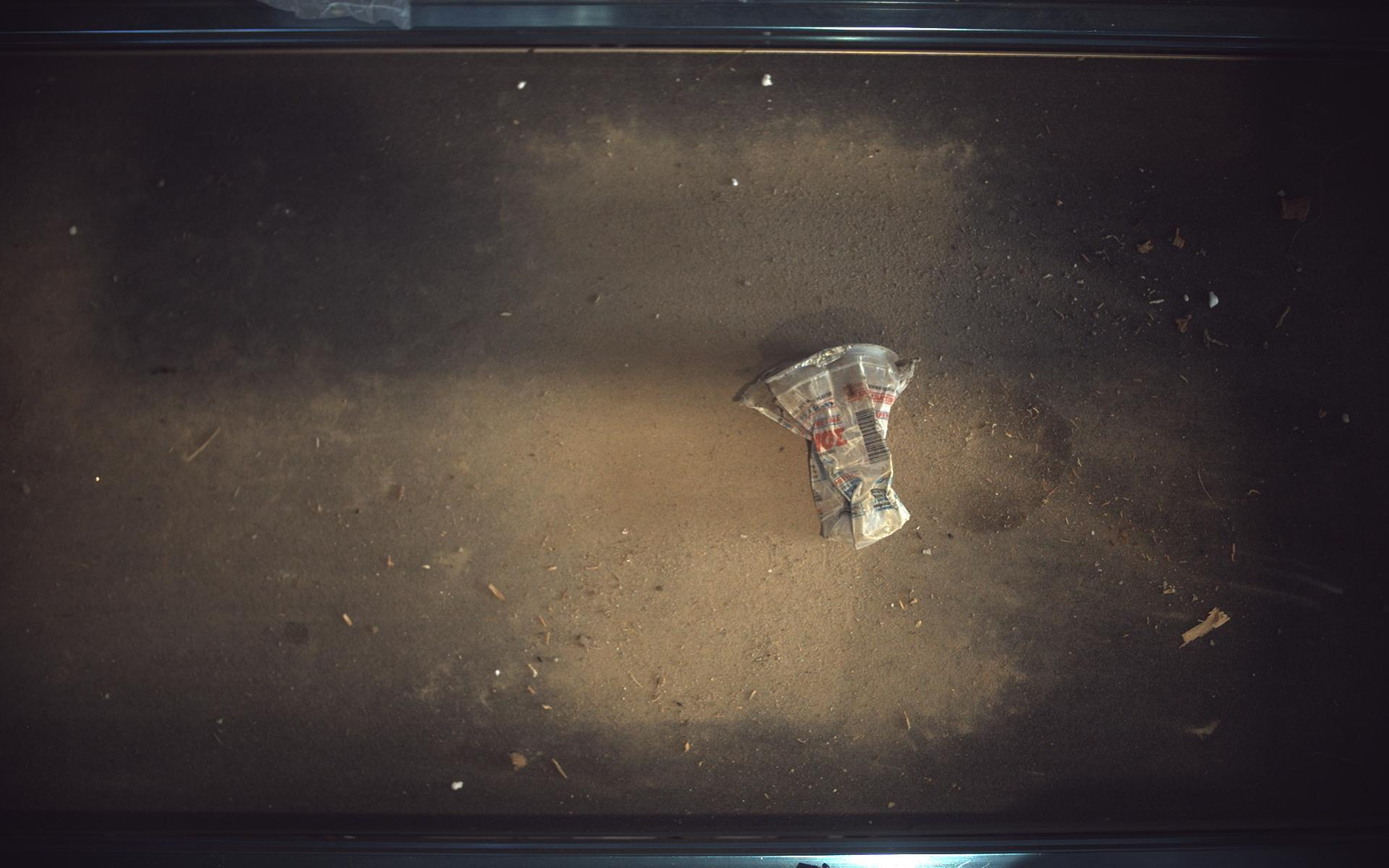general_w: (742, 344, 918, 550)
